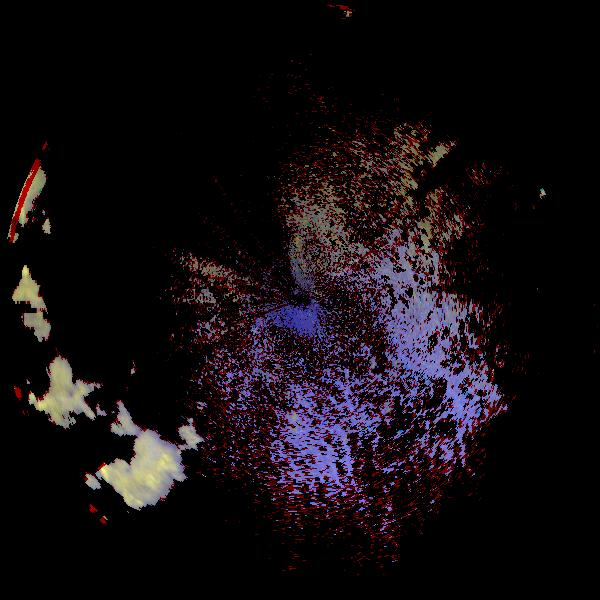roost: (289, 413, 298, 422)
